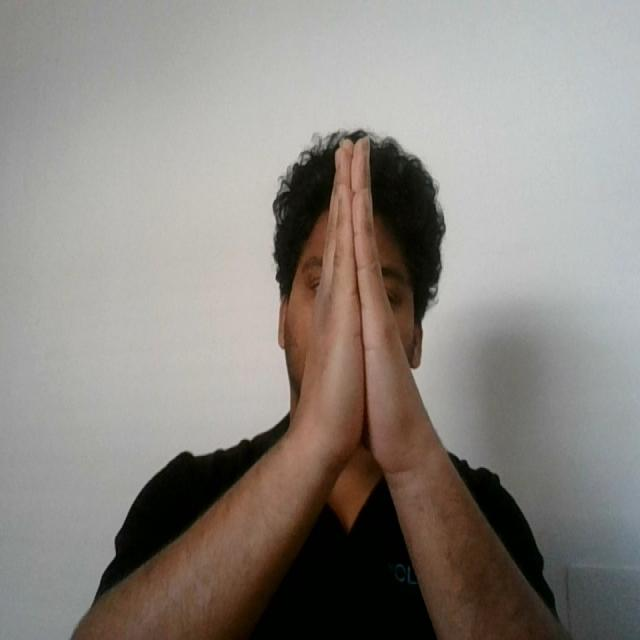Thanks: (276, 121, 451, 507)
